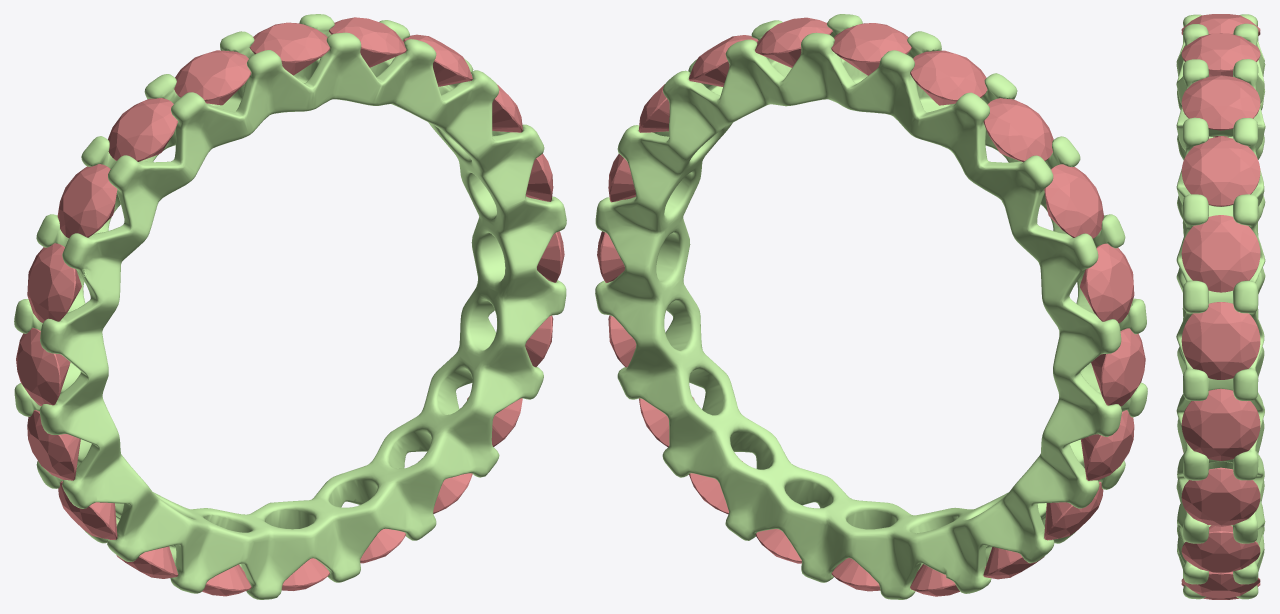
The model's file is BE2D0352ELC_RENDER.glb.
3 renders of one model, left to right at view 1: azimuth 30°, elevation 25°; view 2: azimuth 150°, elevation 25°; view 3: azimuth 270°, elevation 25°, orthographic. The views are drawn at different scales.
Parts seen in each view (by area): view 1: Metal03, Diamond_Round_Gem_BD.014, Diamond_Round_Gem_BD.015, Diamond_Round_Gem_BD.013, Diamond_Round_Gem_BD.016, Diamond_Round_Gem_BD.012, Diamond_Round_Gem_BD.017, Diamond_Round_Gem_BD.011, Diamond_Round_Gem_BD.018, Diamond_Round_Gem_BD.010, Diamond_Round_Gem_BD.019, Diamond_Round_Gem_BD.009 (+9 smaller); view 2: Metal03, Diamond_Round_Gem_BD.014, Diamond_Round_Gem_BD.015, Diamond_Round_Gem_BD.013, Diamond_Round_Gem_BD.016, Diamond_Round_Gem_BD.012, Diamond_Round_Gem_BD.017, Diamond_Round_Gem_BD.011, Diamond_Round_Gem_BD.018, Diamond_Round_Gem_BD.010, Diamond_Round_Gem_BD.019, Diamond_Round_Gem_BD.009 (+9 smaller); view 3: Metal03, Diamond_Round_Gem_BD.001, Diamond_Round_Gem_BD, Diamond_Round_Gem_BD.002, Diamond_Round_Gem_BD.019, Diamond_Round_Gem_BD.003, Diamond_Round_Gem_BD.018, Diamond_Round_Gem_BD.004, Diamond_Round_Gem_BD.017, Diamond_Round_Gem_BD.005, Diamond_Round_Gem_BD.016.
Boxes of the visible parts, left/top/right/bottom form: Metal03: left=14, top=14, right=566, bottom=599; Diamond_Round_Gem_BD.014: left=57, top=164, right=117, bottom=238; Diamond_Round_Gem_BD.015: left=108, top=98, right=177, bottom=161; Diamond_Round_Gem_BD.013: left=27, top=243, right=81, bottom=322; Diamond_Round_Gem_BD.016: left=174, top=50, right=251, bottom=105; Diamond_Round_Gem_BD.012: left=16, top=328, right=70, bottom=406; Diamond_Round_Gem_BD.017: left=249, top=22, right=330, bottom=75; Diamond_Round_Gem_BD.011: left=27, top=410, right=80, bottom=480; Diamond_Round_Gem_BD.018: left=329, top=17, right=406, bottom=67; Diamond_Round_Gem_BD.010: left=58, top=481, right=117, bottom=539; Diamond_Round_Gem_BD.019: left=403, top=34, right=472, bottom=86; Diamond_Round_Gem_BD.009: left=109, top=539, right=178, bottom=578; Metal03: left=595, top=14, right=1147, bottom=599; Diamond_Round_Gem_BD.014: left=1044, top=164, right=1103, bottom=238; Diamond_Round_Gem_BD.015: left=983, top=98, right=1053, bottom=162; Diamond_Round_Gem_BD.013: left=1080, top=243, right=1134, bottom=322; Diamond_Round_Gem_BD.016: left=910, top=50, right=987, bottom=105; Diamond_Round_Gem_BD.012: left=1091, top=328, right=1145, bottom=406; Diamond_Round_Gem_BD.017: left=831, top=23, right=911, bottom=75; Diamond_Round_Gem_BD.011: left=1080, top=410, right=1134, bottom=480; Diamond_Round_Gem_BD.018: left=755, top=17, right=832, bottom=67; Diamond_Round_Gem_BD.010: left=1044, top=481, right=1103, bottom=540; Diamond_Round_Gem_BD.019: left=689, top=35, right=758, bottom=86; Diamond_Round_Gem_BD.009: left=983, top=539, right=1051, bottom=579; Metal03: left=1176, top=14, right=1265, bottom=599; Diamond_Round_Gem_BD.001: left=1181, top=302, right=1260, bottom=379; Diamond_Round_Gem_BD: left=1181, top=215, right=1260, bottom=292; Diamond_Round_Gem_BD.002: left=1181, top=388, right=1260, bottom=460; Diamond_Round_Gem_BD.019: left=1181, top=137, right=1260, bottom=206; Diamond_Round_Gem_BD.003: left=1181, top=467, right=1260, bottom=526; Diamond_Round_Gem_BD.018: left=1181, top=75, right=1260, bottom=130; Diamond_Round_Gem_BD.004: left=1181, top=525, right=1260, bottom=573; Diamond_Round_Gem_BD.017: left=1181, top=33, right=1260, bottom=76; Diamond_Round_Gem_BD.005: left=1181, top=571, right=1260, bottom=597; Diamond_Round_Gem_BD.016: left=1181, top=14, right=1260, bottom=34.
Size of the model in its own units: 21.62 by 21.62 by 3.3.
